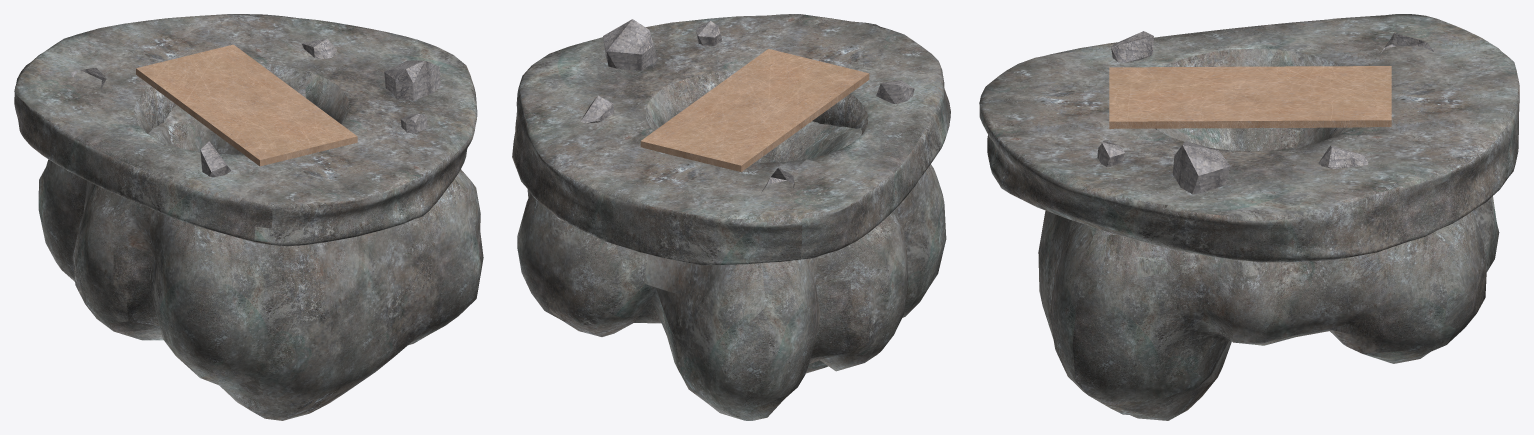
The model's file is plat3.glb.
The picture shows the model from 3 angles, left to right: view 1: azimuth 30°, elevation 25°; view 2: azimuth 150°, elevation 25°; view 3: azimuth 270°, elevation 25°; orthographic projection. The views are drawn at different scales.
Parts seen in each view (by area): view 1: Cylinder.001, Icosphere, Cube.001, Icosphere.001; view 2: Cylinder.001, Icosphere, Cube.001, Icosphere.001; view 3: Cylinder.001, Icosphere, Cube.001, Icosphere.001.
Part boxes in pixels (left/top/right/bottom): Cylinder.001: left=14, top=14, right=477, bottom=246; Icosphere: left=38, top=84, right=483, bottom=420; Cube.001: left=136, top=44, right=357, bottom=166; Icosphere.001: left=71, top=38, right=440, bottom=177; Cylinder.001: left=512, top=14, right=950, bottom=265; Icosphere: left=517, top=120, right=946, bottom=420; Cube.001: left=640, top=49, right=869, bottom=171; Icosphere.001: left=580, top=19, right=914, bottom=192; Cylinder.001: left=979, top=14, right=1519, bottom=262; Icosphere: left=1038, top=66, right=1499, bottom=420; Cube.001: left=1109, top=66, right=1391, bottom=128; Icosphere.001: left=1097, top=31, right=1434, bottom=194.
Size of the model in its own units: 14.44 by 11.46 by 15.97.
Materials: 4 (4 with a texture image).
